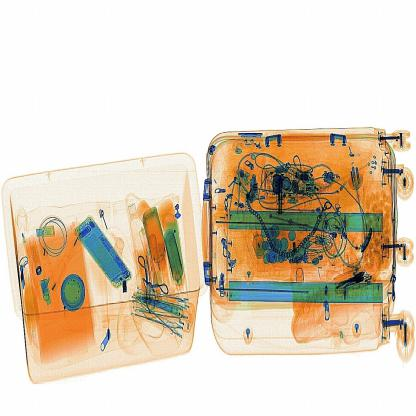scissors: (273, 179, 287, 221)
